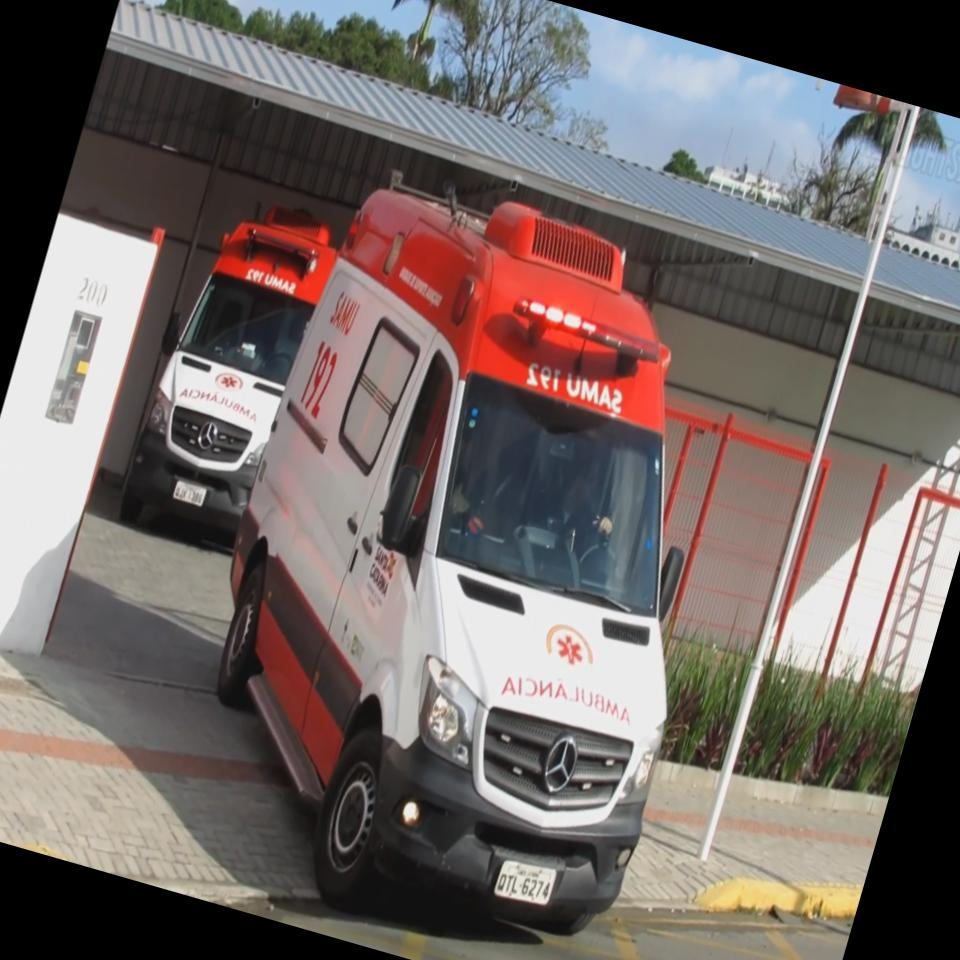bombeiro: (142, 149, 801, 960), (106, 185, 347, 564)
